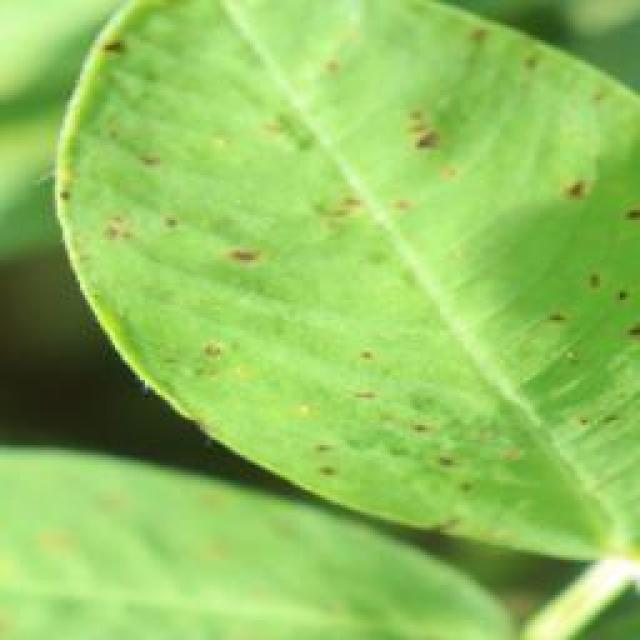Sigatoka: (306, 345, 500, 548), (556, 158, 640, 376), (134, 199, 296, 308), (439, 9, 569, 103), (68, 193, 164, 287), (400, 99, 482, 209), (150, 318, 256, 402), (290, 176, 424, 237), (119, 122, 203, 179), (87, 18, 156, 82)
